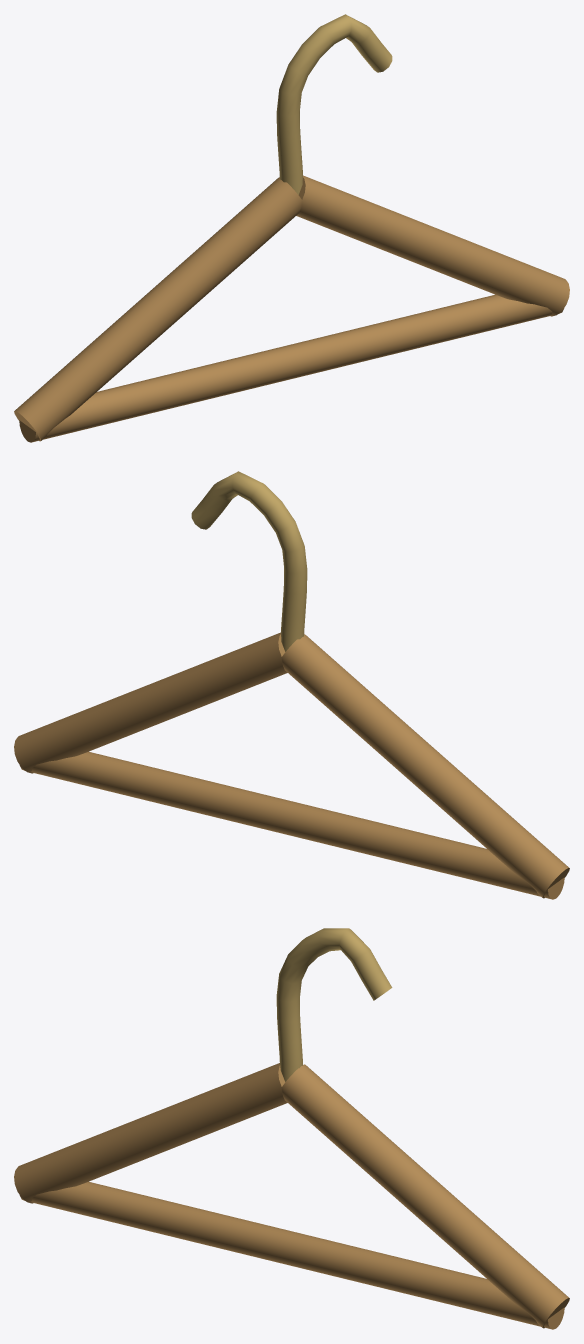
Rendered from abandoned-puppet-theatre-and-prop-vault-miniature-cost-e5fd152c__31095.glb.
The picture shows the model from 3 angles, top to bottom: view 1: azimuth 30°, elevation 25°; view 2: azimuth 150°, elevation 25°; view 3: azimuth 330°, elevation 25°; orthographic projection.
Visible parts, largest first — view 1: miniature-costume-hanger; view 2: miniature-costume-hanger; view 3: miniature-costume-hanger.
Part boxes in pixels (bbox=[...]): miniature-costume-hanger: bbox=[14, 14, 569, 442]; miniature-costume-hanger: bbox=[14, 471, 569, 899]; miniature-costume-hanger: bbox=[14, 928, 569, 1329].
Bounding box in the file's own units: 0.3725 × 0.2267 × 0.024.
